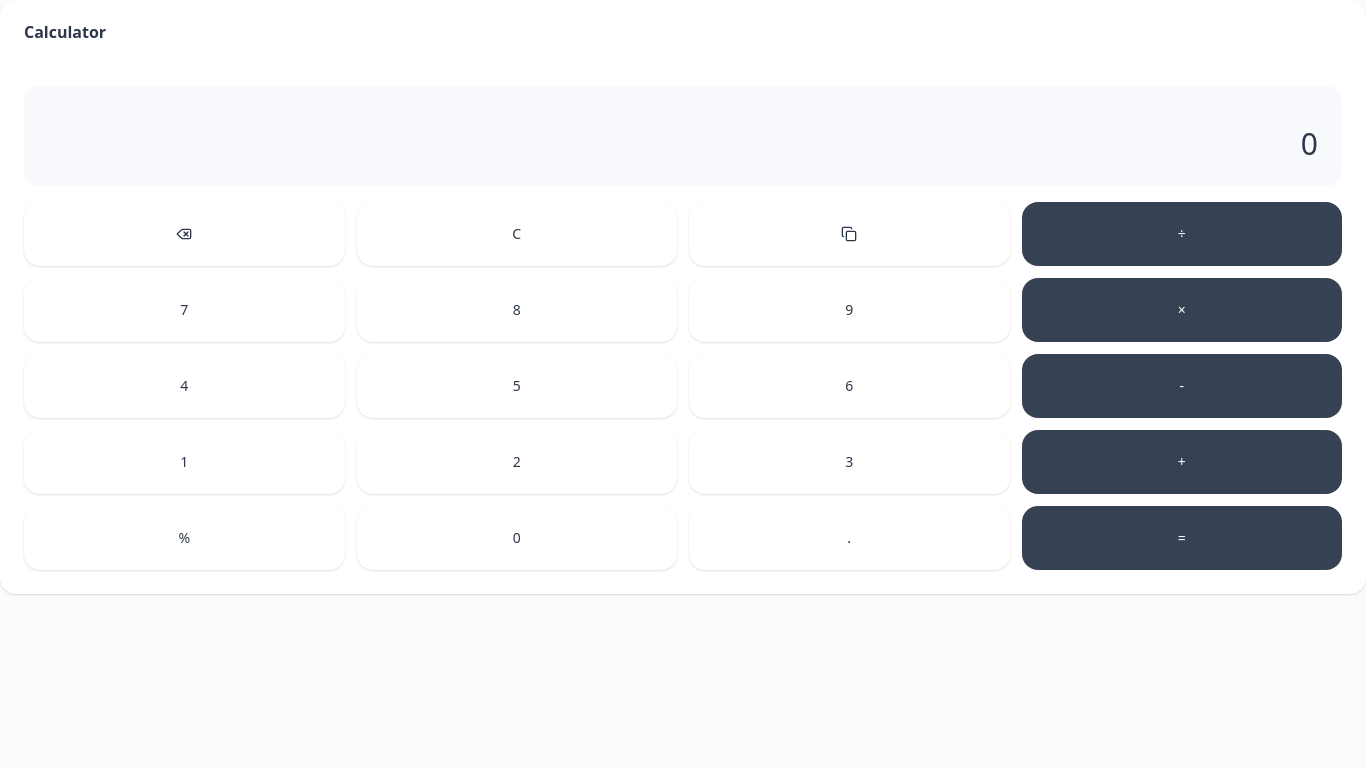
Test: Calculator Component › Number Input › should display multiple digits correctly
Click the button with test id "calculator-1". click: coordinates (184, 462)
box: [24,430,344,494]
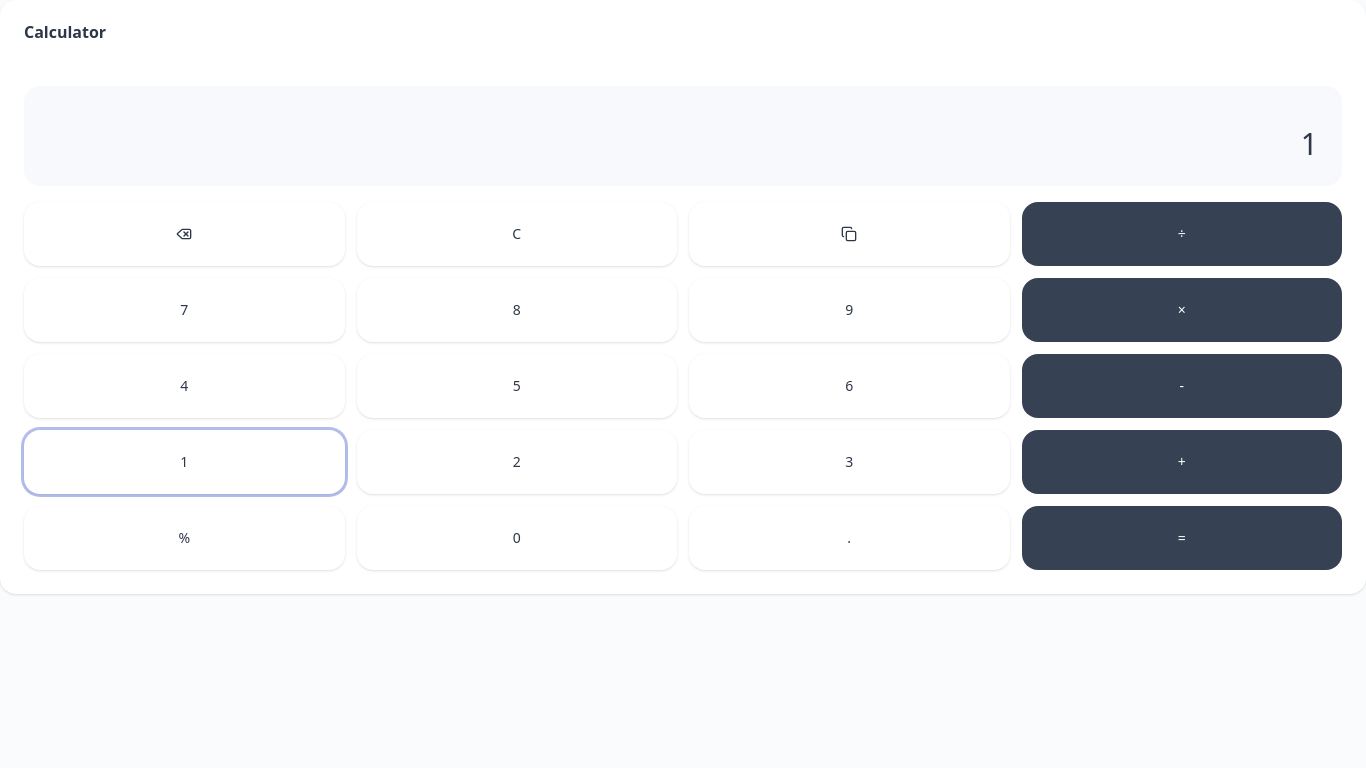
Click the button with test id "calculator-2". click: coordinates (517, 462)
box: [356,430,677,494]
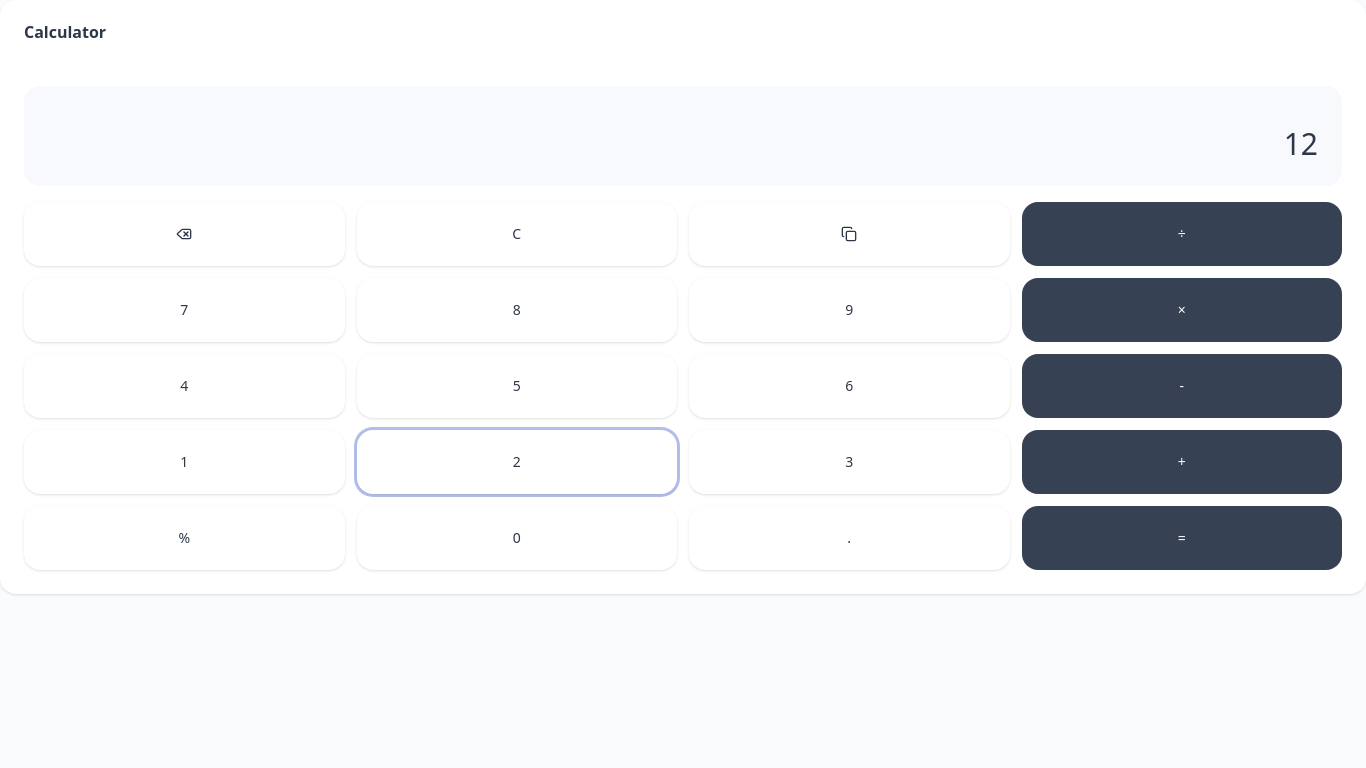
Click the button with test id "calculator-3". click: coordinates (849, 462)
box: [689,430,1010,494]
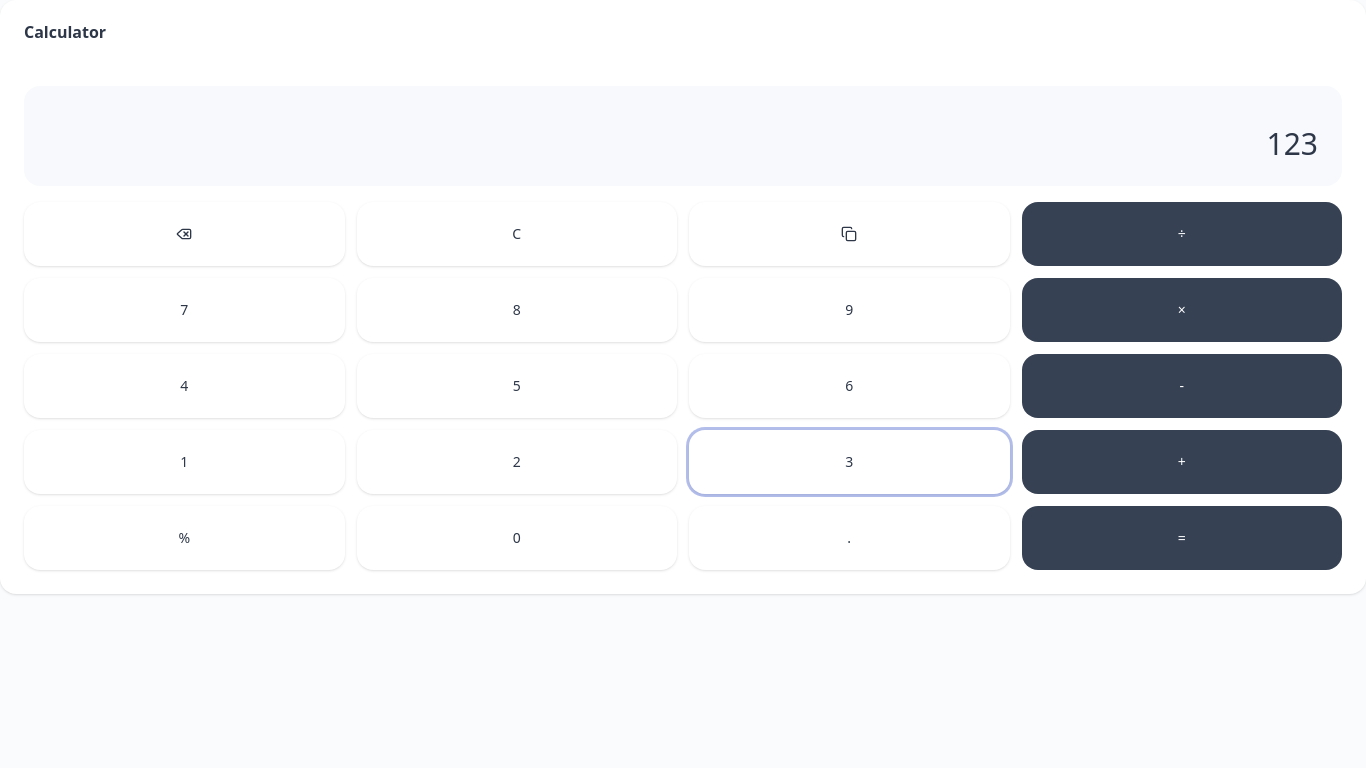
Expected: the text with test id "calculator-display" reads "123", [1266,123,1318,164]
